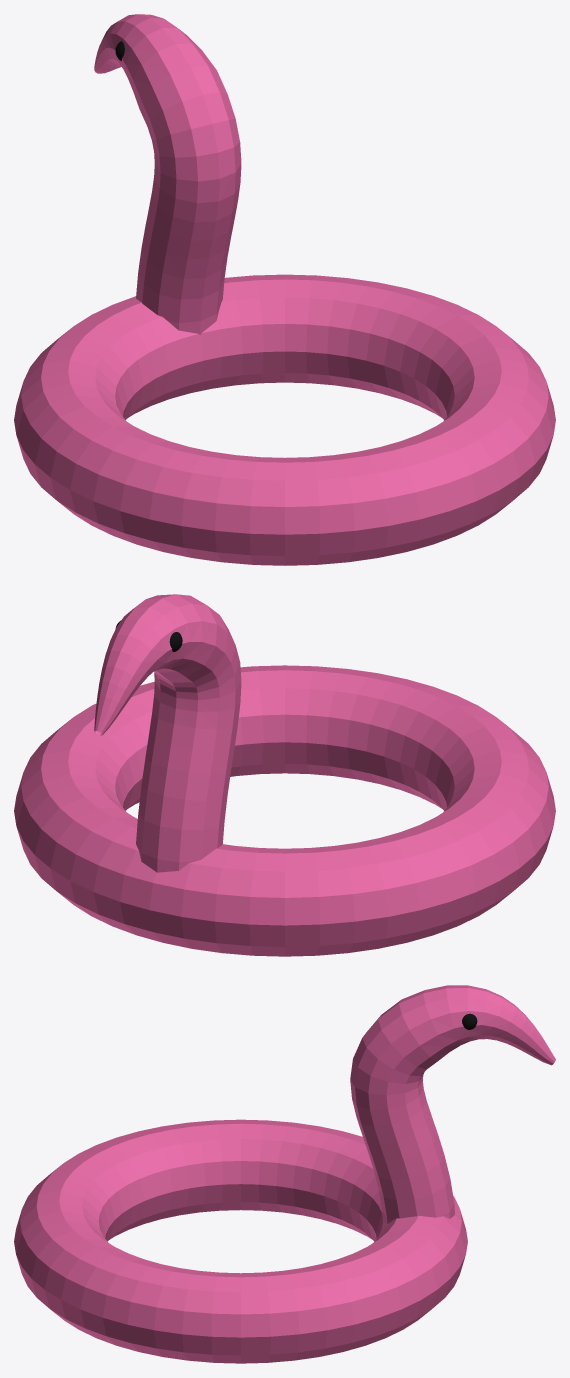
Rendered from Flotante.fbx.
3 views of the same model, one above another, from view 1: azimuth 30°, elevation 25°; view 2: azimuth 150°, elevation 25°; view 3: azimuth 270°, elevation 25° (orthographic). The views are drawn at different scales.
Parts seen in each view (by area): view 1: Flotante; view 2: Flotante; view 3: Flotante.
Part boxes in pixels (<box>): Flotante: <box>14,14,555,565</box>; Flotante: <box>14,594,555,956</box>; Flotante: <box>14,985,555,1363</box>.
Bounding box in the file's own units: 1.41 × 1.01 × 1.69.
